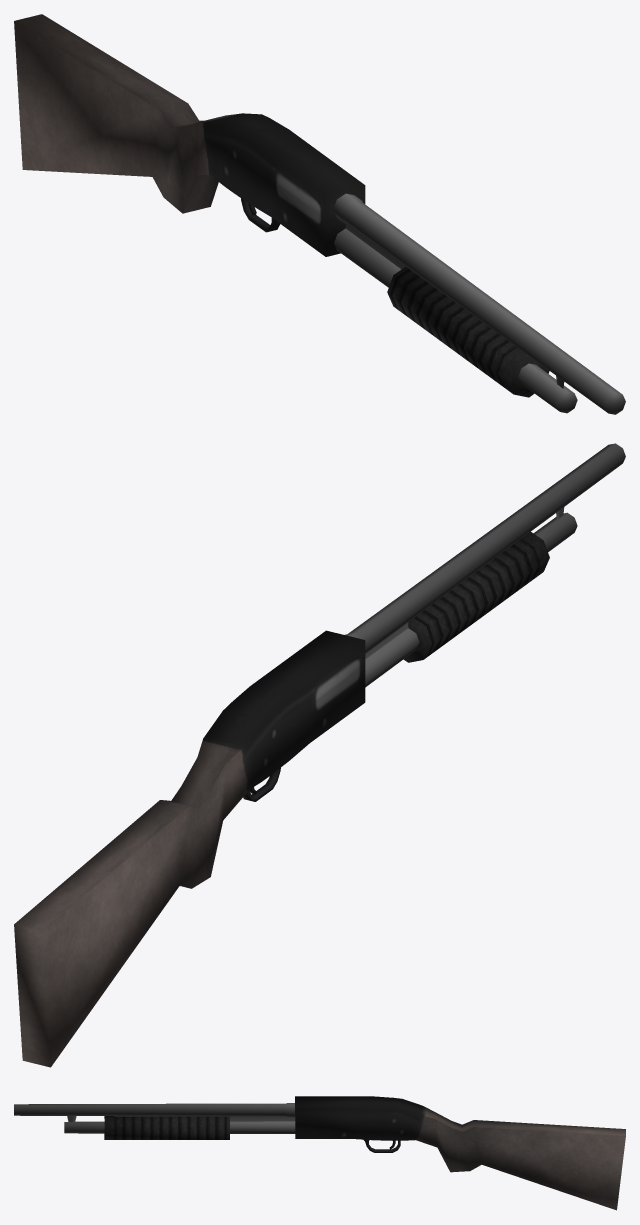
Rendered from shotgun.dae.
The picture shows the model from 3 angles, top to bottom: view 1: azimuth 30°, elevation 25°; view 2: azimuth 150°, elevation 25°; view 3: azimuth 270°, elevation 25°; orthographic projection. The views are drawn at different scales.
Parts seen in each view (by area): view 1: Circle; view 2: Circle; view 3: Circle.
Boxes of the visible parts, left/top/right/bottom form: Circle: left=14, top=14, right=625, bottom=414; Circle: left=14, top=443, right=625, bottom=1067; Circle: left=14, top=1096, right=625, bottom=1210.
Size of the model in its own units: 0.0393 by 0.9407 by 0.1789.
1 material, 1 textured.
